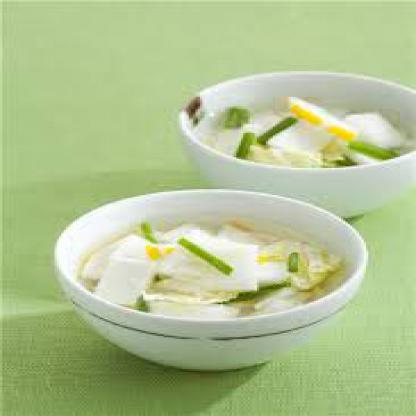nabak Kimchi: (68, 215, 346, 328), (188, 86, 414, 177)
